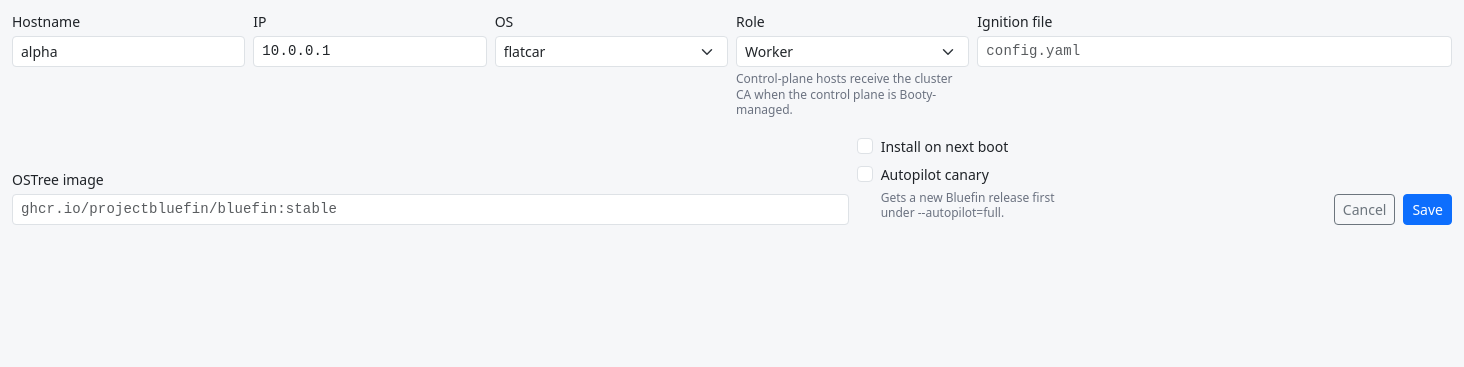
Test case: HostForm › shows mode, state disk and extensions for bluefin only
This screenshot has width=1464, height=367.
Select "bluefin" in the dropdown labelled "OS": point(611, 52) [495, 36, 728, 67]
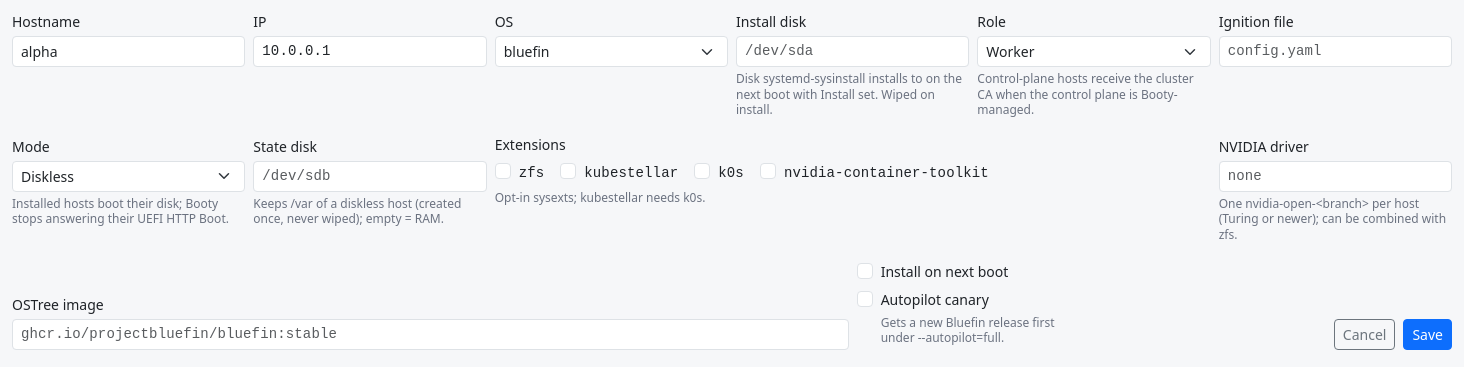
Result: the dropdown labelled "Mode" shows "Diskless" at [12, 161, 245, 192]
Result: the element with test id "bluefin-fields" shows "kubestellar needs k0s" at [495, 189, 706, 206]
